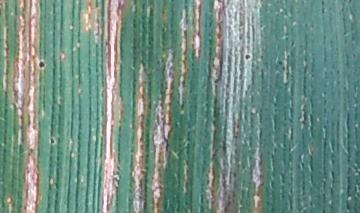tarspot: (34, 57, 49, 72), (241, 50, 254, 64), (46, 133, 58, 148)
